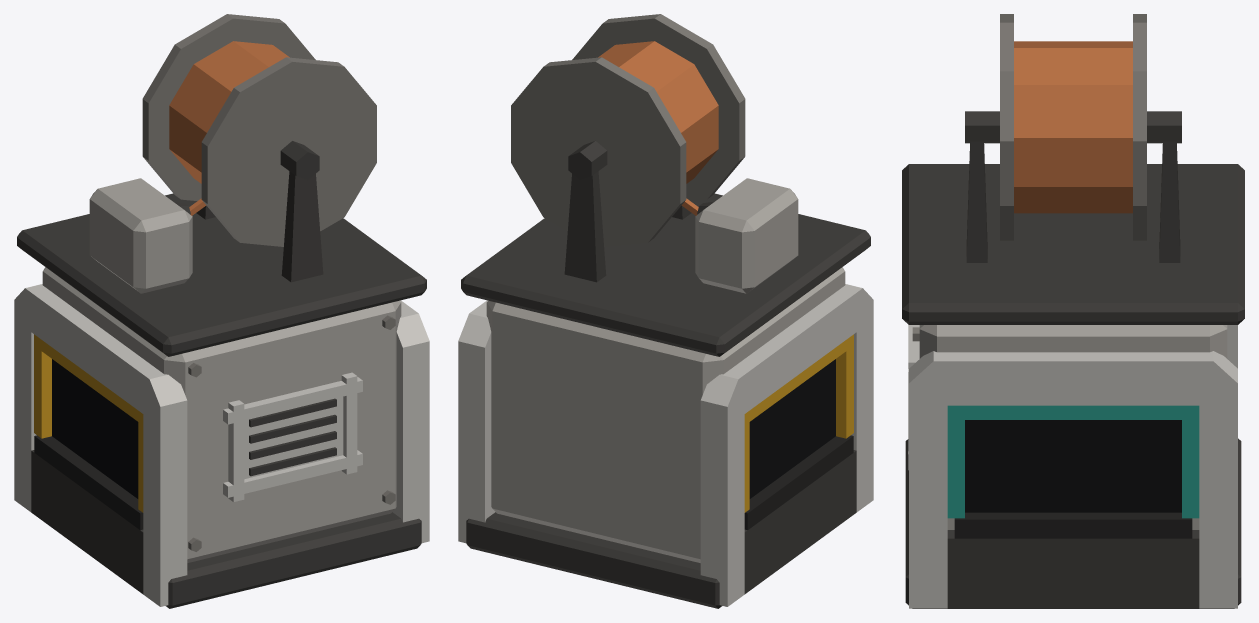
Rendered from wiredraw.fbx.
The picture shows the model from 3 angles, left to right: view 1: azimuth 30°, elevation 25°; view 2: azimuth 150°, elevation 25°; view 3: azimuth 270°, elevation 25°; orthographic projection. The views are drawn at different scales.
Visible parts, largest first — view 1: wiredraw; view 2: wiredraw; view 3: wiredraw.
Boxes of the visible parts, x1,y1,x2,y2 form: wiredraw: (14,14,429,608); wiredraw: (458,14,873,608); wiredraw: (902,14,1244,608).
Size of the model in its own units: 3 by 5.1 by 2.94.
